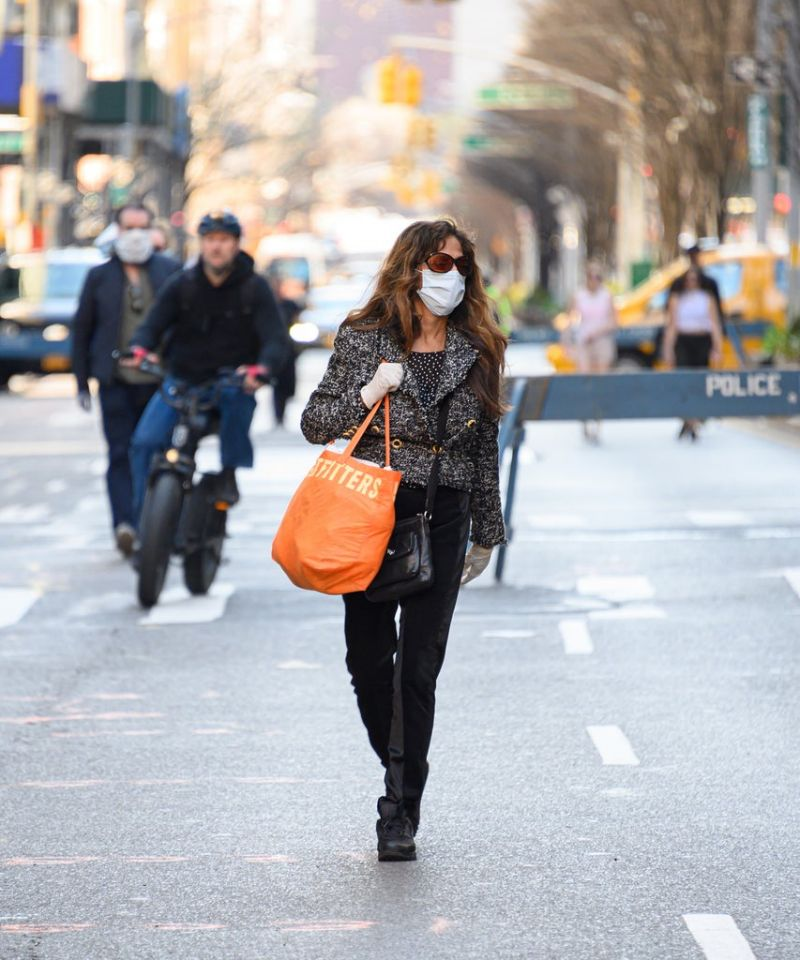person: (286, 204, 522, 885), (123, 211, 288, 538), (77, 197, 183, 482), (656, 240, 733, 422)
